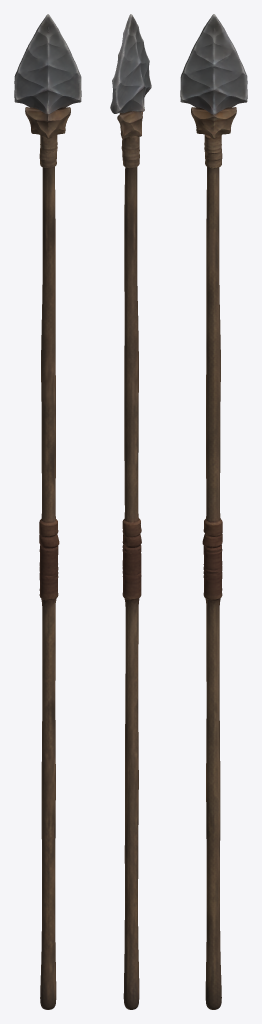
The model's file is source.glb.
3 views of the same model, side by side, from view 1: azimuth 90°, elevation 25°; view 2: azimuth 150°, elevation 25°; view 3: azimuth 270°, elevation 25° (orthographic).
Visible parts, largest first — view 1: model; view 2: model; view 3: model.
Boxes of the visible parts, <box> form: model: <box>14,14,81,1009</box>; model: <box>110,14,151,1009</box>; model: <box>180,14,247,1009</box>.
Bounding box in the file's own units: 0.0552 × 1.9 × 0.1163.
Materials: 1 (1 with a texture image).
